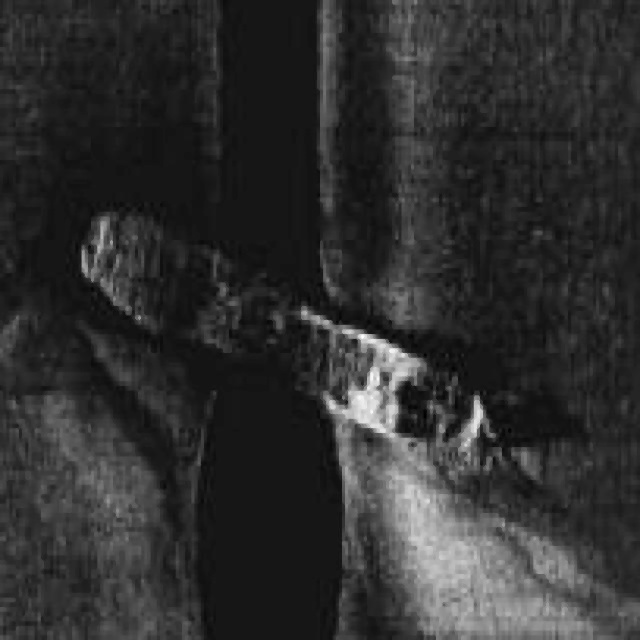Ship: (66, 187, 517, 531)
